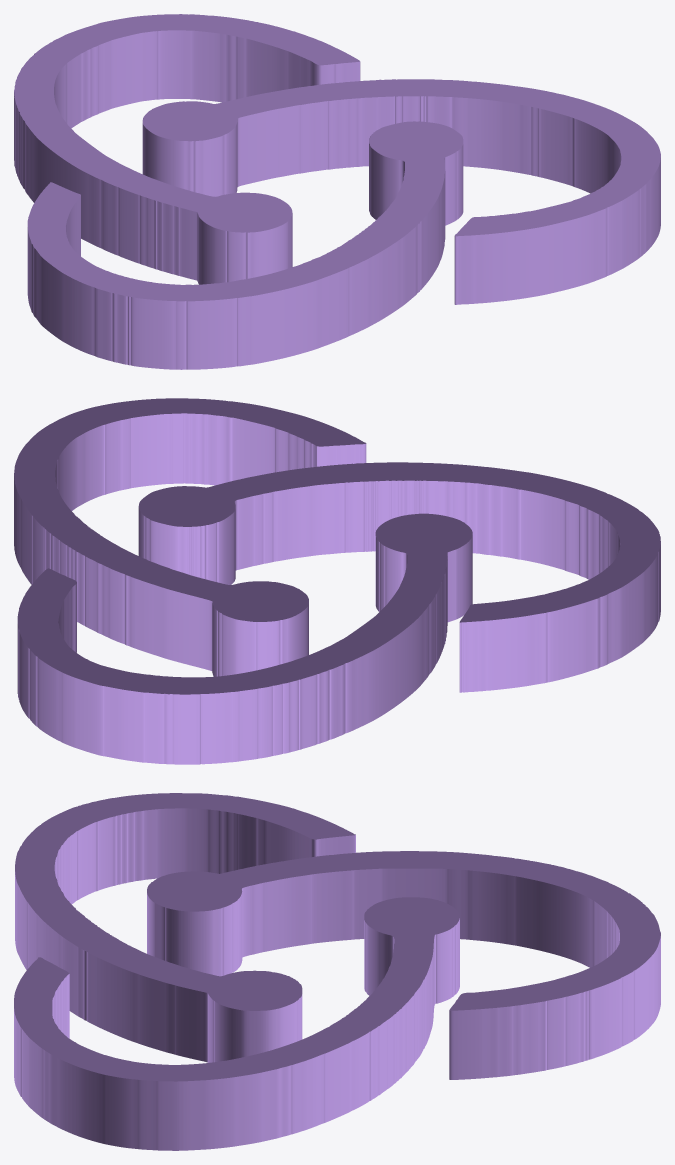
Rendered from redux-transformed.glb.
The picture shows the model from 3 angles, top to bottom: view 1: azimuth 30°, elevation 25°; view 2: azimuth 150°, elevation 25°; view 3: azimuth 270°, elevation 25°; orthographic projection. The views are drawn at different scales.
Parts seen in each view (by area): view 1: Node2, Node1, Node3; view 2: Node3, Node1, Node2; view 3: Node1, Node2, Node3.
Boxes of the visible parts, x1,y1,x2,y2 form: Node2: (142,79,660,304); Node1: (14,14,360,284); Node3: (27,121,463,369); Node3: (138,462,660,692); Node1: (17,513,472,764); Node2: (14,398,366,676); Node1: (147,851,660,1079); Node2: (14,897,459,1150); Node3: (15,793,355,1062).
Bounding box in the file's own units: 3.51 × 0.3937 × 3.33.
